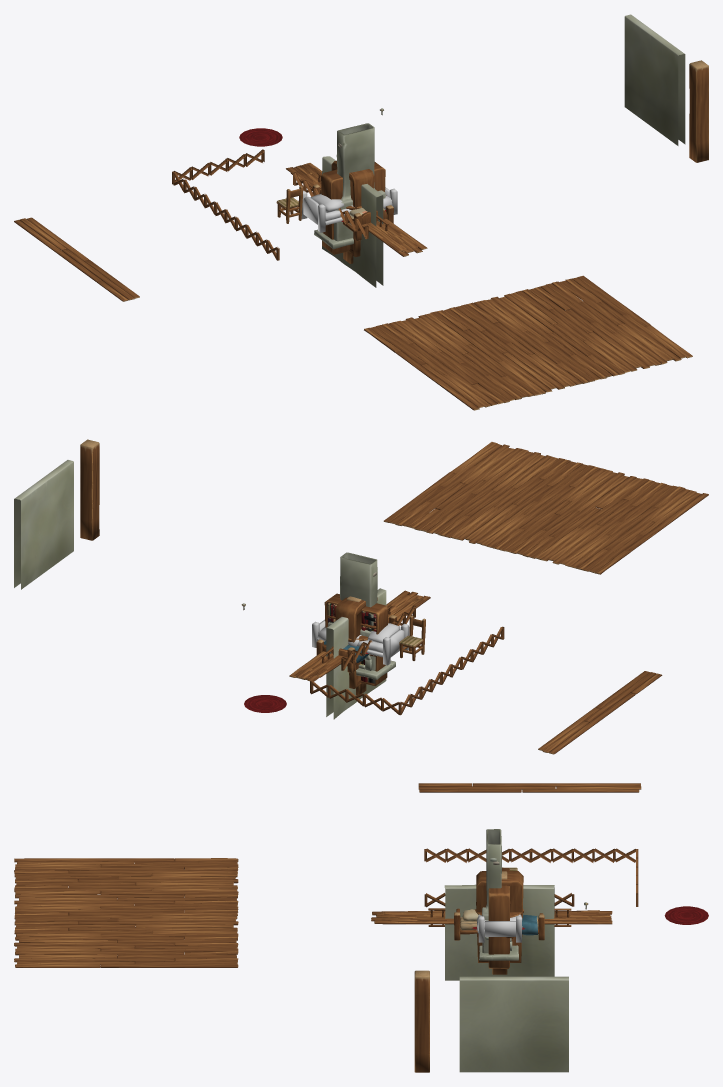
Rendered from FurnitureCenter.obj.
3 views of the same model, one above another, from view 1: azimuth 30°, elevation 25°; view 2: azimuth 150°, elevation 25°; view 3: azimuth 270°, elevation 25° (orthographic). The views are drawn at different scales.
Visible parts, largest first — view 1: Cube.008_Cube.011, Cube.009_Cube.021, furnace_Cube.027, Cube.015_Cube.067, wall_Cube.026, Cube.006_Cube.003, bookshelf.001_Cube.008, planks4_Cube.028, cupboard_Cube.012, rug.001_Circle.002, chair.002_Cube.005, bed_Cube.009; view 2: Cube.008_Cube.011, Cube.009_Cube.021, Cube.015_Cube.067, furnace_Cube.027, wall_Cube.026, Cube.006_Cube.003, bookshelf.001_Cube.008, cupboard_Cube.012, chair.002_Cube.005, planks4_Cube.028, rug.001_Circle.002, bed_Cube.009 (+1 smaller); view 3: Cube.008_Cube.011, Cube.009_Cube.021, wall_Cube.026, Cube.006_Cube.003, Cube.015_Cube.067, furnace_Cube.027, bookshelf.001_Cube.008, cupboard_Cube.012, planks4_Cube.028, bed_Cube.009, planks1_Cube.032, rug.001_Circle.002 (+2 smaller).
Boxes of the visible parts, x1,y1,x2,y2 form: Cube.008_Cube.011: (364,275,692,410); Cube.009_Cube.021: (624,14,708,162); furnace_Cube.027: (314,123,385,249); Cube.015_Cube.067: (172,149,368,260); wall_Cube.026: (322,156,383,287); Cube.006_Cube.003: (14,217,139,301); bookshelf.001_Cube.008: (321,162,385,254); planks4_Cube.028: (291,168,427,256); cupboard_Cube.012: (331,160,374,257); rug.001_Circle.002: (239,128,282,146); chair.002_Cube.005: (276,186,303,223); bed_Cube.009: (312,184,393,240); Cube.008_Cube.011: (383,442,708,574); Cube.009_Cube.021: (14,439,99,589); Cube.015_Cube.067: (310,605,504,715); furnace_Cube.027: (328,552,395,679); wall_Cube.026: (326,588,386,719); Cube.006_Cube.003: (538,671,662,754); bookshelf.001_Cube.008: (324,593,388,686); cupboard_Cube.012: (335,597,377,688); chair.002_Cube.005: (399,615,425,660); planks4_Cube.028: (298,590,430,677); rug.001_Circle.002: (244,695,286,712); bed_Cube.009: (316,615,396,672); Cube.008_Cube.011: (14,858,238,967); Cube.009_Cube.021: (414,970,568,1072); wall_Cube.026: (444,884,554,980); Cube.006_Cube.003: (418,783,641,792); Cube.015_Cube.067: (424,848,638,907); furnace_Cube.027: (479,829,518,960); bookshelf.001_Cube.008: (488,868,510,968); cupboard_Cube.012: (476,870,523,962); planks4_Cube.028: (371,910,599,924); bed_Cube.009: (454,908,544,940); planks1_Cube.032: (382,911,612,924); rug.001_Circle.002: (664,906,708,924).
Size of the model in its own units: 30.92 by 7.91 by 31.37.
Materials: 8 (5 with a texture image).
